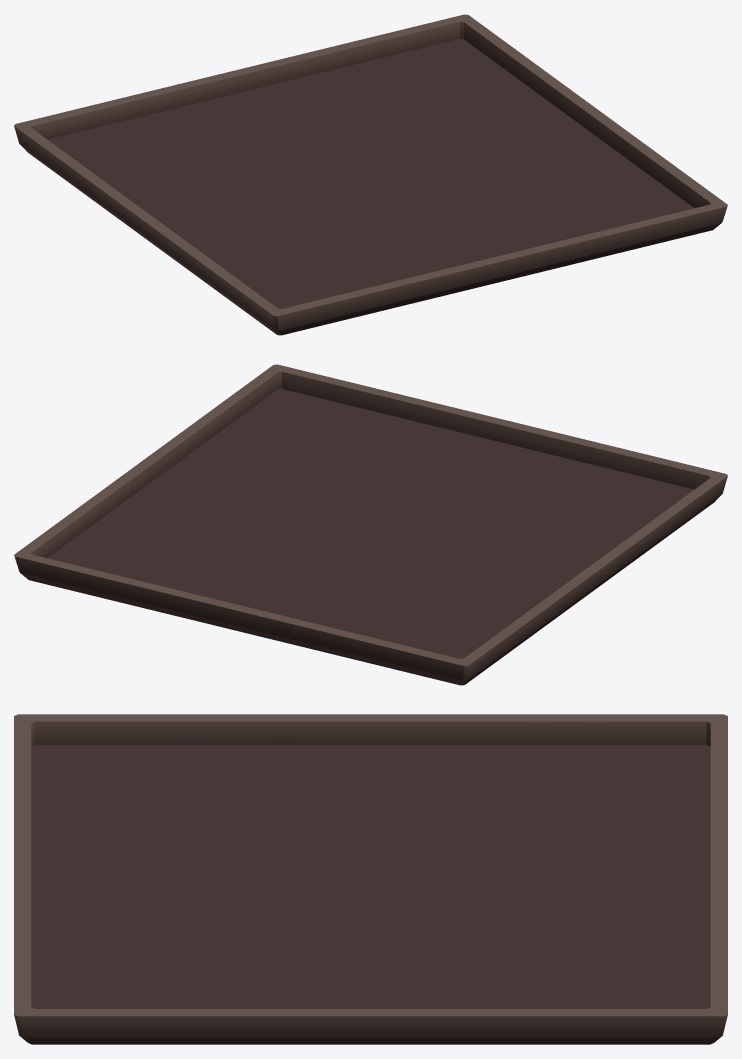
File: Tray_Wood_Dark_Medium_002.gltf
3 renders of one model, top to bottom at view 1: azimuth 30°, elevation 25°; view 2: azimuth 150°, elevation 25°; view 3: azimuth 270°, elevation 25°, orthographic. The views are drawn at different scales.
Visible parts, largest first — view 1: Tray_Wood_Dark_Medium_002_x; view 2: Tray_Wood_Dark_Medium_002_x; view 3: Tray_Wood_Dark_Medium_002_x.
Part boxes in pixels (x1,y1,x2,y2): Tray_Wood_Dark_Medium_002_x: (14,14,727,335); Tray_Wood_Dark_Medium_002_x: (14,364,727,685); Tray_Wood_Dark_Medium_002_x: (14,714,727,1044).
Size of the model in its own units: 6 by 0.3174 by 6.
Materials: 1 (1 with a texture image).
